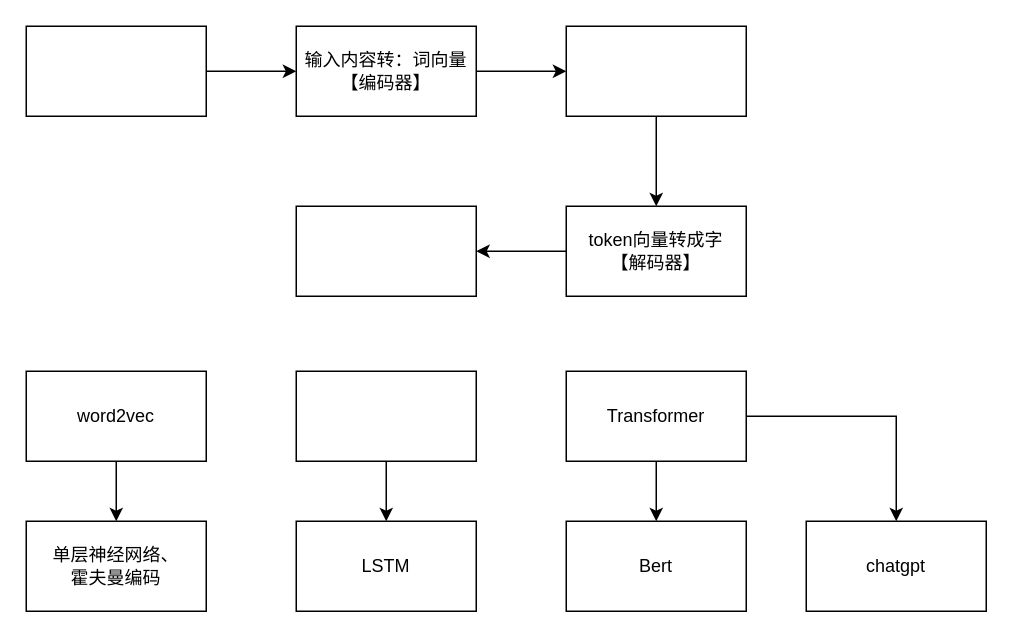
Some shapes in this 1013 by 638 pixel diagram are drawn without their labels. The centre of each missing label's shape, as x and y in pixels:
RNN: the point at 385,415
计算第i个可能得token【假设是字级别】: the point at 655,70
输入"计算机是什么": the point at 115,70
输出结束: the point at 385,250
